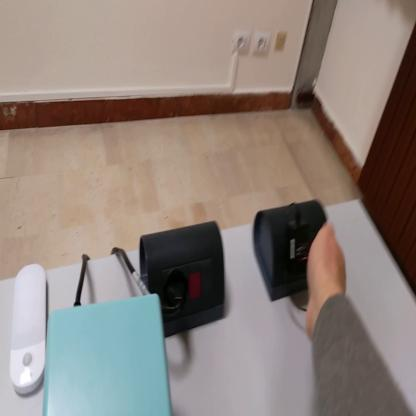hand: (304, 218, 348, 331)
socket: (139, 218, 228, 337), (248, 201, 326, 307)
welder station: (45, 291, 174, 416)
